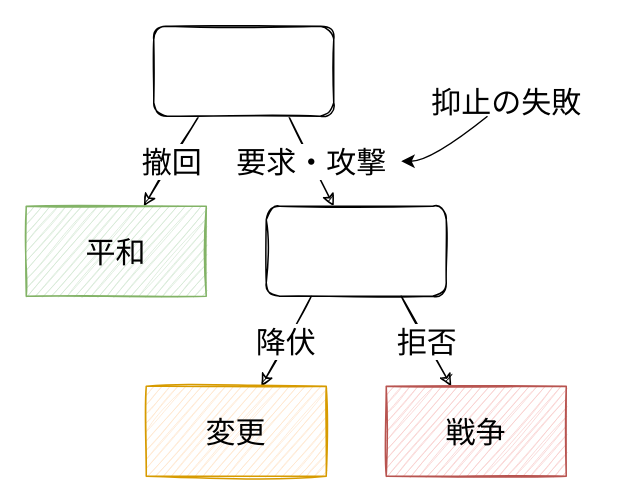
The diagram is 623 pixels wide and 503 high, and some of its shapes have lost their labels. Here are the shapes that lost their labels. From the top down, the centre of each, then its label:
(x=243, y=70): 国家A
(x=355, y=250): 国家B
